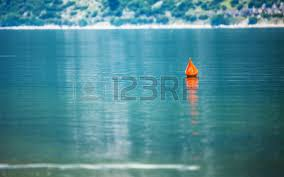buoy: (185, 59, 199, 78)
